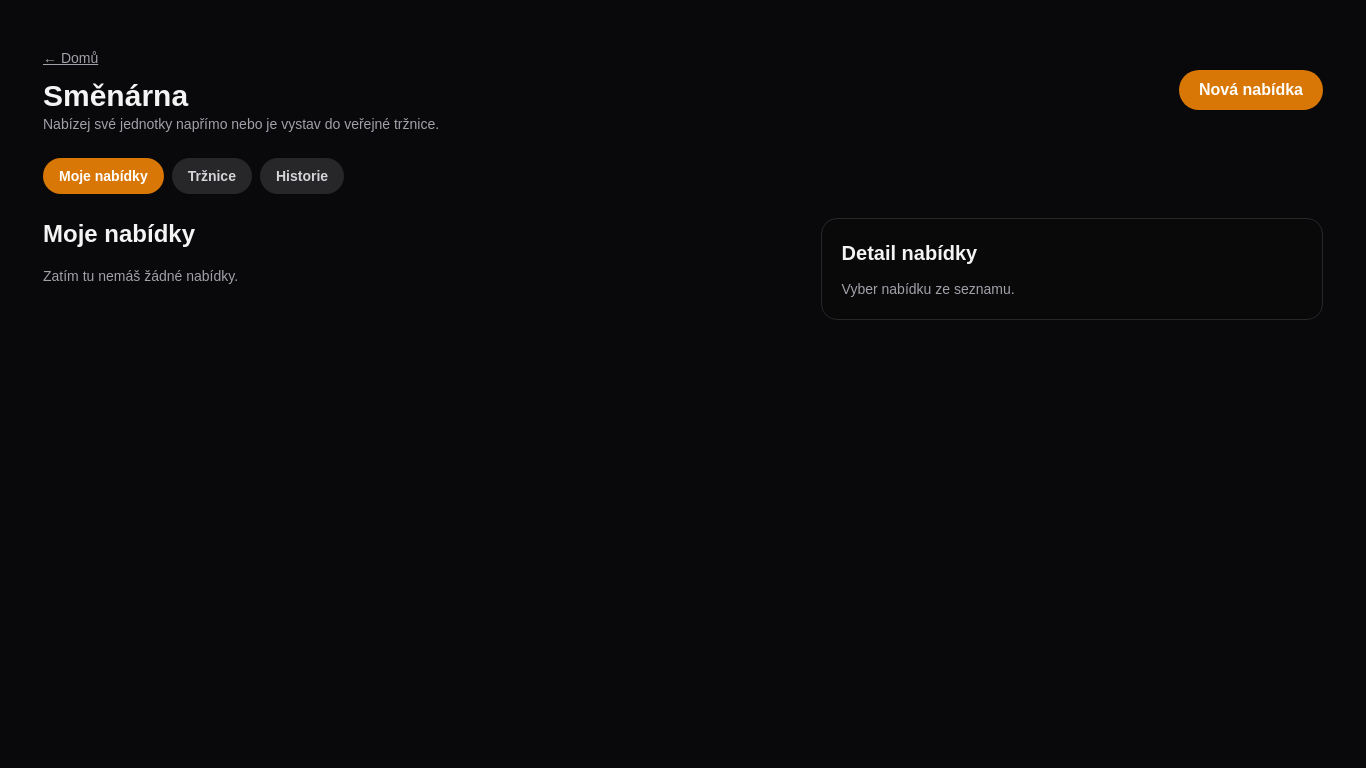
Test: ExchangePage › does not offer deposit cards in the create-trade modal
Expected: the heading "Směnárna" is shown, [43,79,188,112]
What coordinates should you click on to do the following:
click the button "Nová nabídka"
I would click on:
 (1251, 90)
Its box is [1179,70,1323,110].
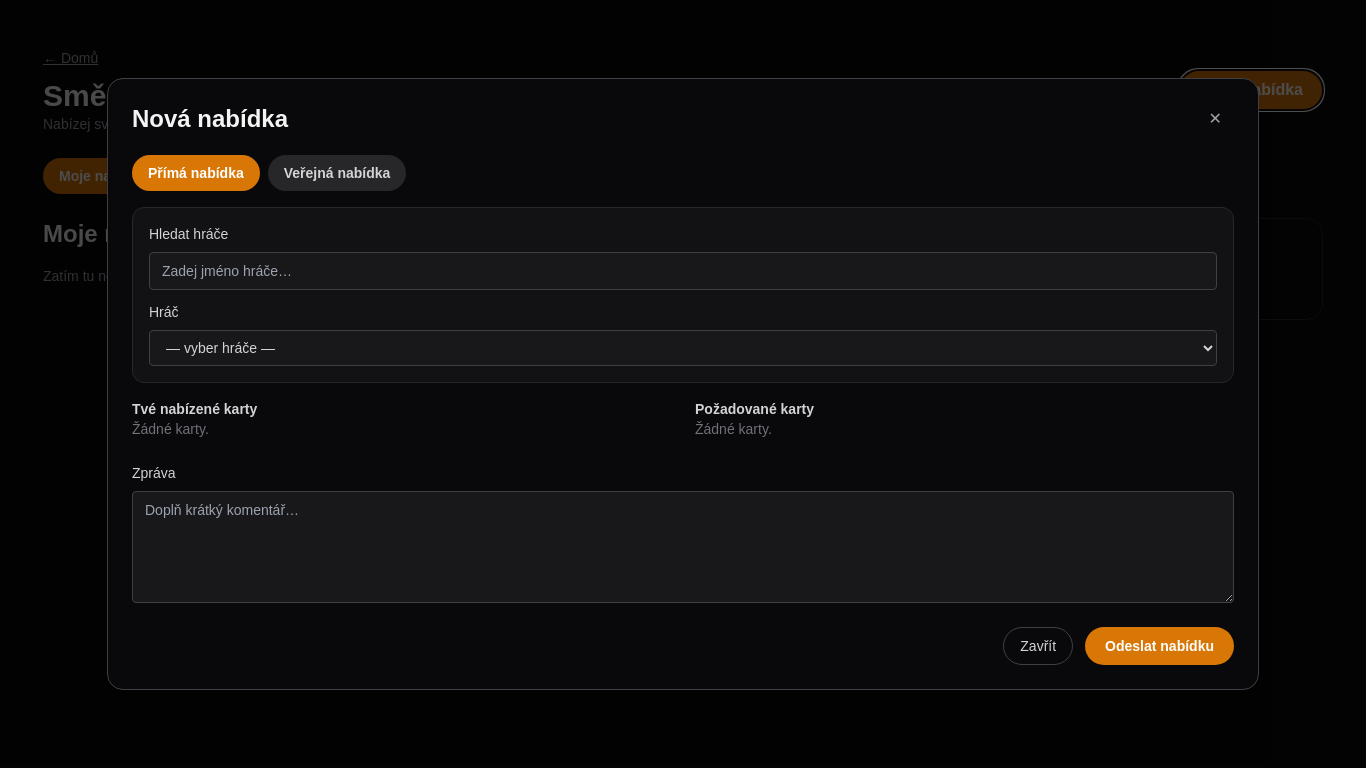
Result: the heading "Nová nabídka" is shown at [132,103,288,135]
